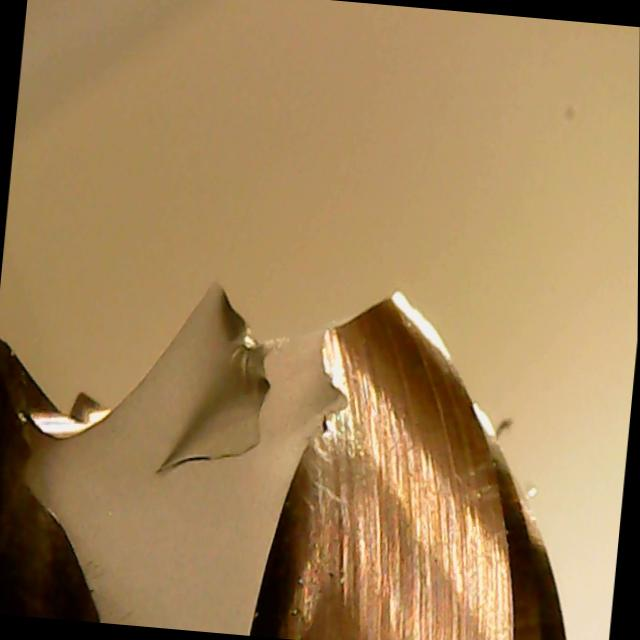Tool-wear-class-2: (249, 294, 411, 574)
